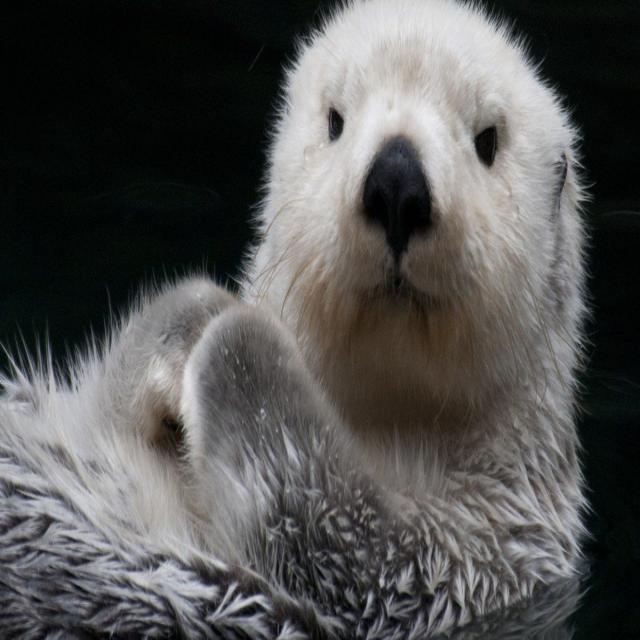Otter: (0, 1, 590, 640)
